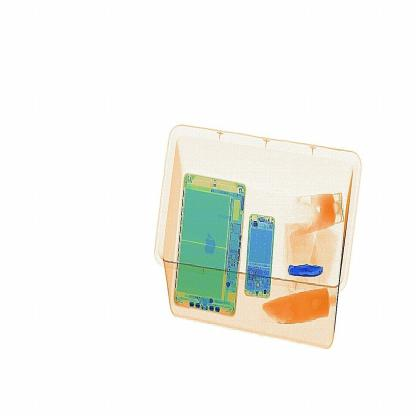knife: (283, 260, 329, 282)
